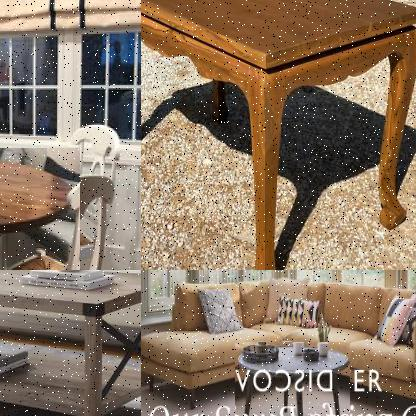table: (141, 0, 415, 269), (0, 270, 140, 415), (0, 148, 82, 269), (235, 342, 351, 415)
